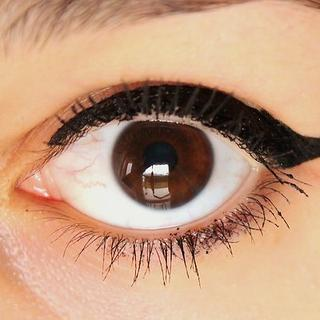pupil: (145, 141, 177, 173)
